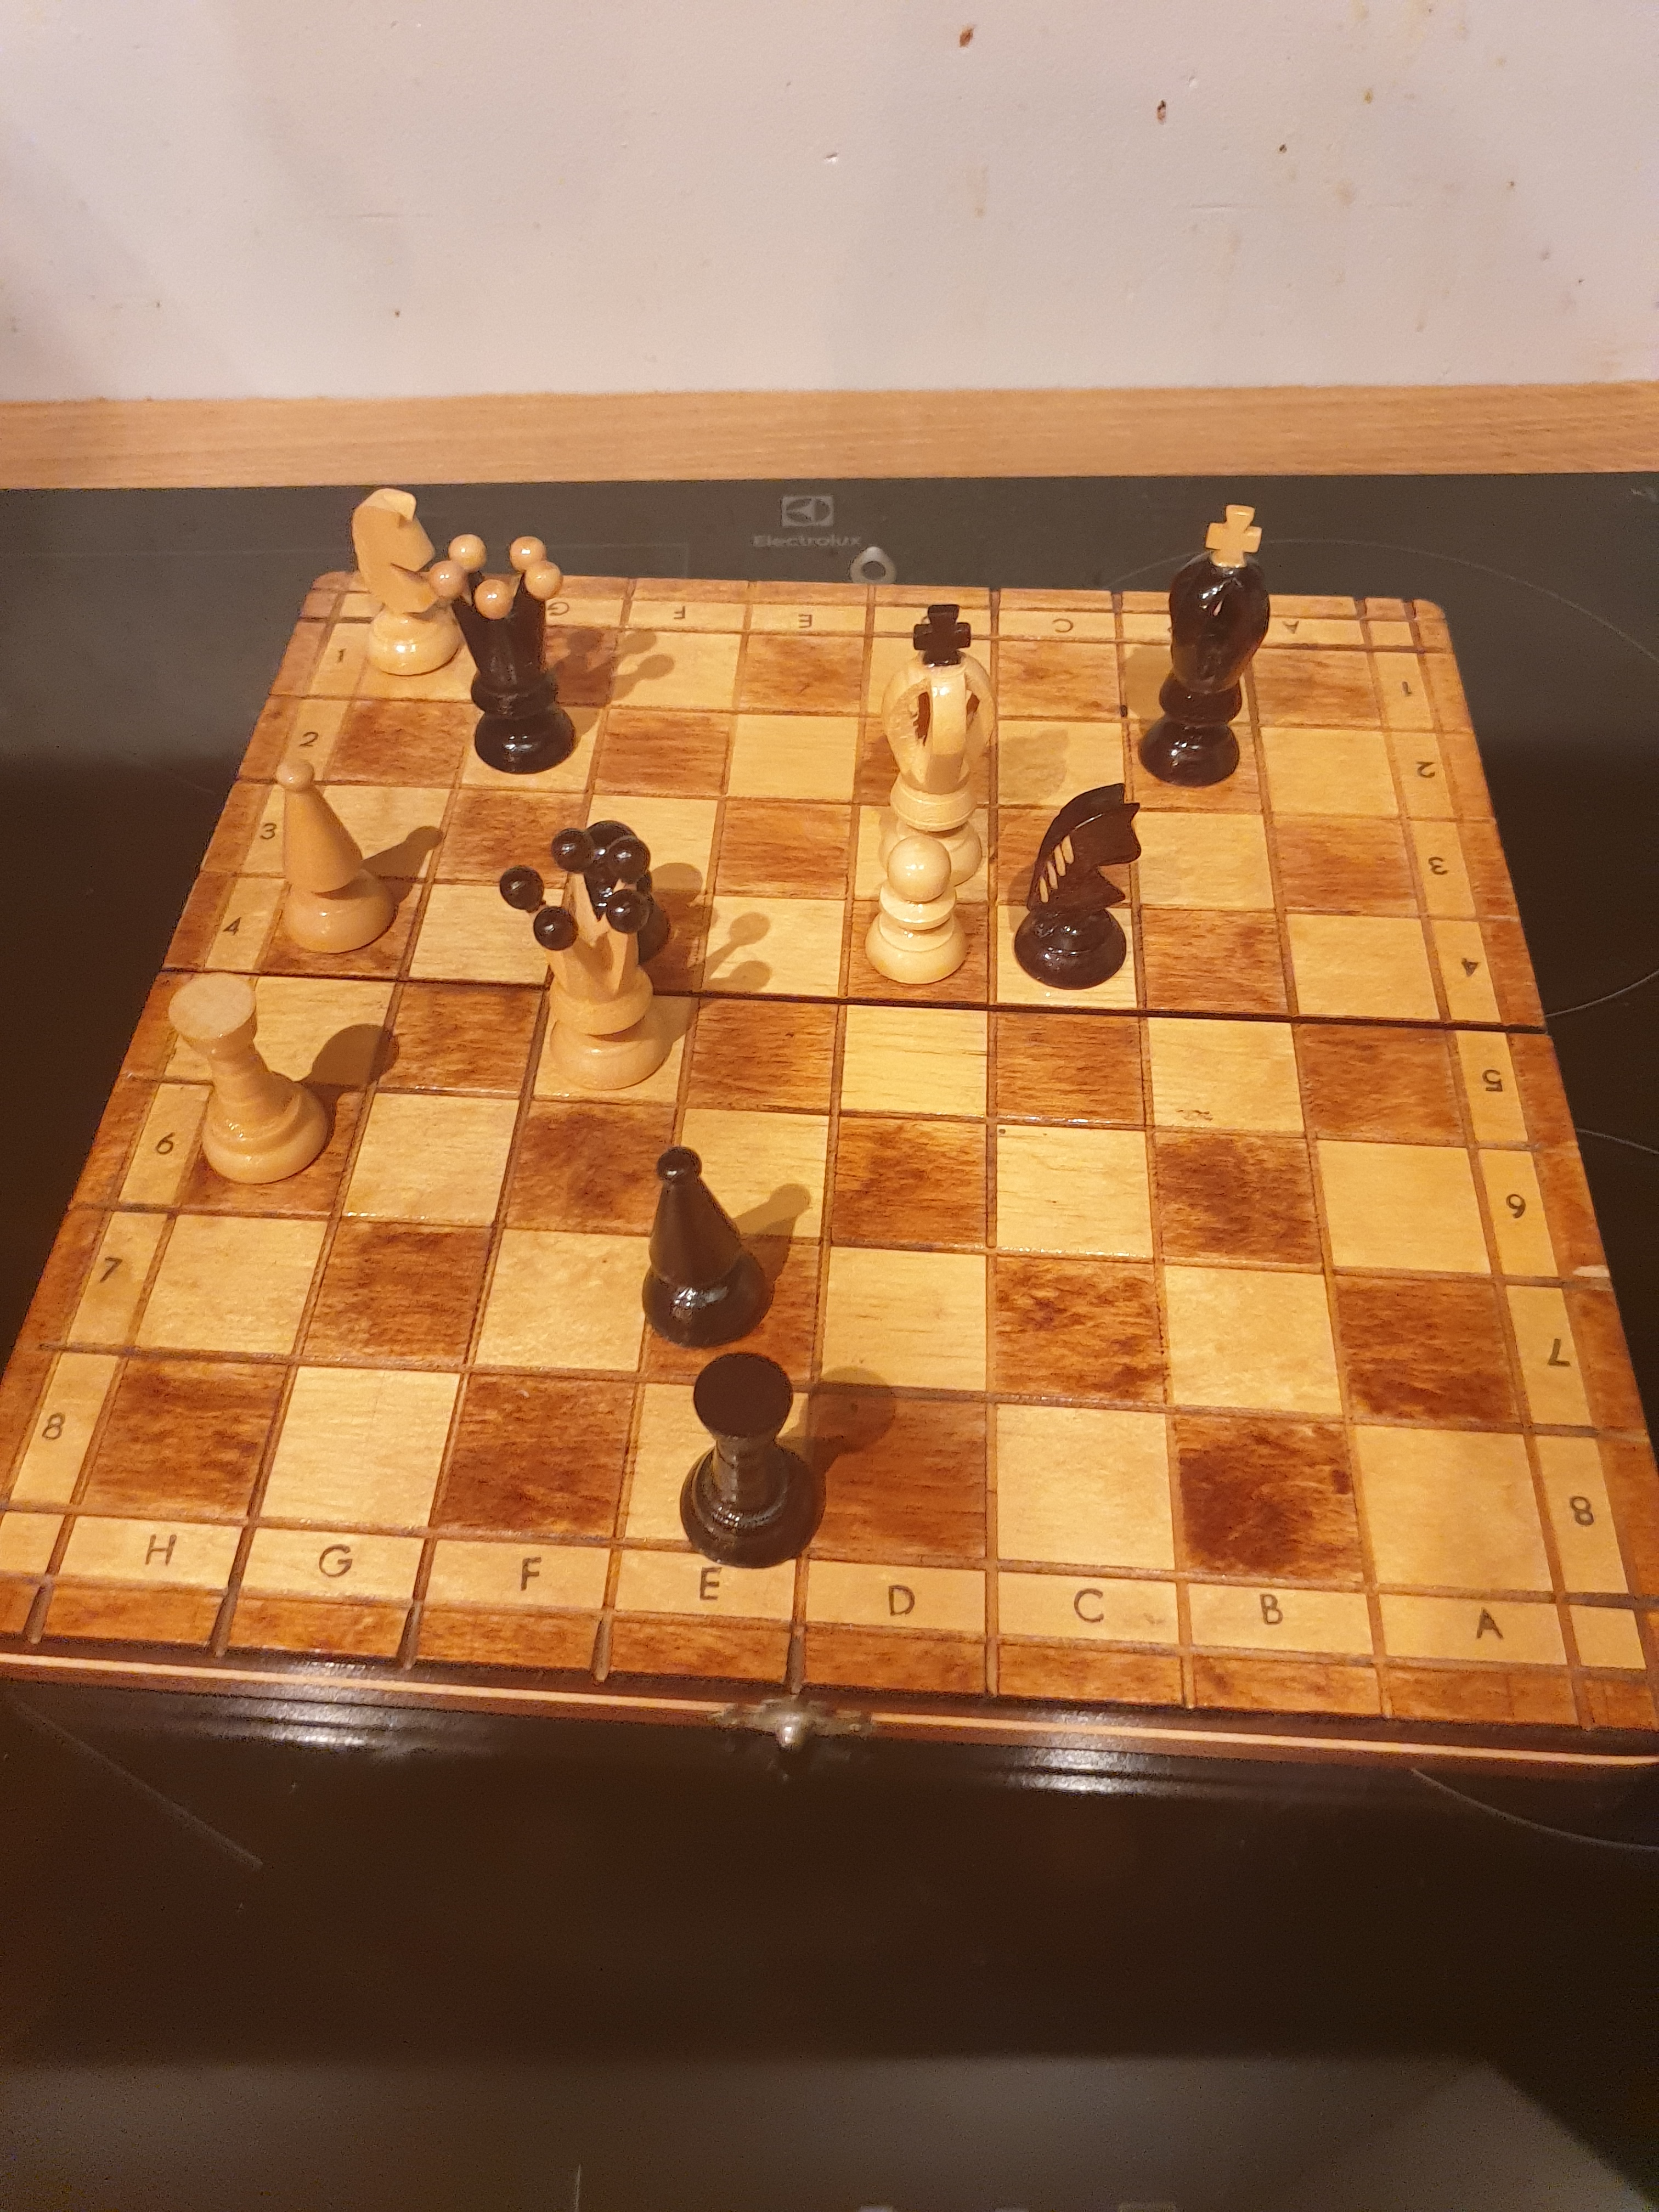bbishop: (633, 1136, 779, 1362)
bking: (1126, 479, 1297, 799)
bknight: (1011, 768, 1157, 1001)
bpawn: (554, 803, 676, 1001)
bqueen: (423, 519, 589, 777)
brook: (669, 1336, 838, 1587)
wbishop: (263, 745, 413, 963)
wking: (873, 596, 1002, 902)
wknight: (343, 475, 476, 686)
wpawn: (854, 826, 983, 1003)
wqueen: (498, 812, 688, 1104)
wrook: (152, 958, 347, 1191)
